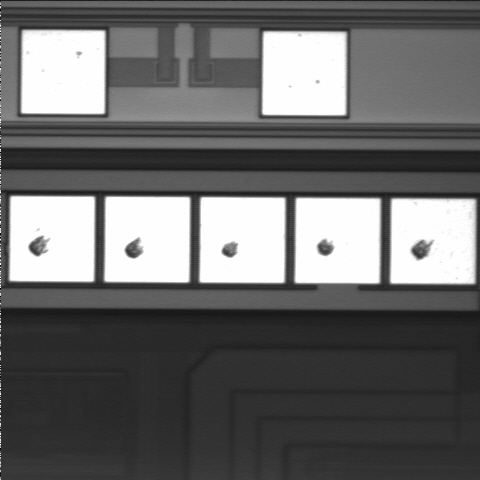pad: (10, 196, 95, 282), (200, 197, 285, 283), (105, 197, 190, 282), (295, 198, 380, 283), (391, 199, 475, 284), (262, 32, 346, 115), (22, 31, 105, 114)
